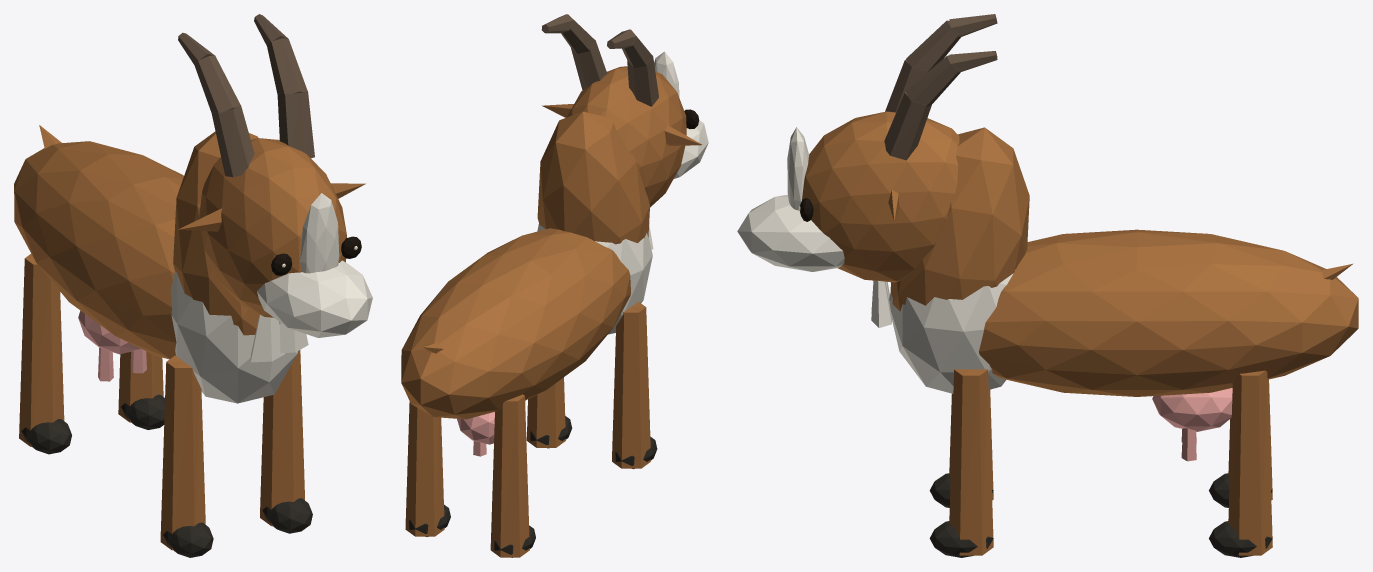
The model's file is low-poly-goat.glb.
The picture shows the model from 3 angles, left to right: view 1: azimuth 30°, elevation 25°; view 2: azimuth 150°, elevation 25°; view 3: azimuth 270°, elevation 25°; orthographic projection. The views are drawn at different scales.
Parts seen in each view (by area): view 1: goat-body-mesh, goat-head-mesh, goat-chest-mesh, goat-leg-front-left-shaft-mesh, goat-leg-rear-left-shaft-mesh, goat-muzzle-mesh, goat-neck-mesh, goat-leg-front-right-shaft-mesh, goat-face-blaze-mesh, goat-horn-left-segment-1-mesh, goat-horn-right-segment-1-mesh, goat-leg-rear-right-shaft-mesh (+13 smaller); view 2: goat-body-mesh, goat-neck-mesh, goat-head-mesh, goat-leg-front-left-shaft-mesh, goat-leg-rear-left-shaft-mesh, goat-leg-rear-right-shaft-mesh, goat-leg-front-right-shaft-mesh, goat-chest-mesh, goat-horn-left-segment-1-mesh, goat-horn-right-segment-1-mesh, goat-muzzle-mesh, goat-udder-mesh (+6 smaller); view 3: goat-body-mesh, goat-head-mesh, goat-neck-mesh, goat-chest-mesh, goat-leg-front-right-shaft-mesh, goat-leg-rear-right-shaft-mesh, goat-muzzle-mesh, goat-udder-mesh, goat-horn-right-segment-1-mesh, goat-horn-left-segment-2-mesh, goat-horn-right-segment-2-mesh, goat-face-blaze-mesh (+4 smaller).
Boxes of the visible parts, x1,y1,x2,y2 form: goat-body-mesh: (14,141,183,359); goat-head-mesh: (199,138,346,317); goat-chest-mesh: (170,271,298,403); goat-leg-front-left-shaft-mesh: (160,355,205,550); goat-leg-rear-left-shaft-mesh: (19,254,64,446); goat-muzzle-mesh: (257,260,372,337); goat-neck-mesh: (173,131,279,335); goat-leg-front-right-shaft-mesh: (260,350,304,526); goat-face-blaze-mesh: (300,193,339,273); goat-horn-left-segment-1-mesh: (211,105,254,177); goat-horn-right-segment-1-mesh: (277,91,314,158); goat-leg-rear-right-shaft-mesh: (118,351,163,422); goat-body-mesh: (401,228,630,419); goat-neck-mesh: (537,111,649,244); goat-head-mesh: (567,66,686,207); goat-leg-front-left-shaft-mesh: (612,301,650,468); goat-leg-rear-left-shaft-mesh: (490,394,529,557); goat-leg-rear-right-shaft-mesh: (405,401,444,536); goat-leg-front-right-shaft-mesh: (526,377,565,447); goat-chest-mesh: (537,224,652,334); goat-horn-left-segment-1-mesh: (627,55,658,106); goat-horn-right-segment-1-mesh: (571,38,607,89); goat-muzzle-mesh: (674,120,708,178); goat-udder-mesh: (457,412,494,444); goat-body-mesh: (979,229,1358,396); goat-head-mesh: (802,111,959,282); goat-neck-mesh: (890,127,1029,311); goat-chest-mesh: (889,270,1015,393); goat-leg-front-right-shaft-mesh: (949,369,993,555); goat-leg-rear-right-shaft-mesh: (1228,370,1272,555); goat-muzzle-mesh: (737,194,844,271); goat-udder-mesh: (1152,388,1232,431); goat-horn-right-segment-1-mesh: (884,92,931,160); goat-horn-left-segment-2-mesh: (906,20,960,73); goat-horn-right-segment-2-mesh: (905,55,960,106); goat-face-blaze-mesh: (787,127,809,210).
Size of the model in its own units: 0.3859 by 0.9887 by 1.12.
